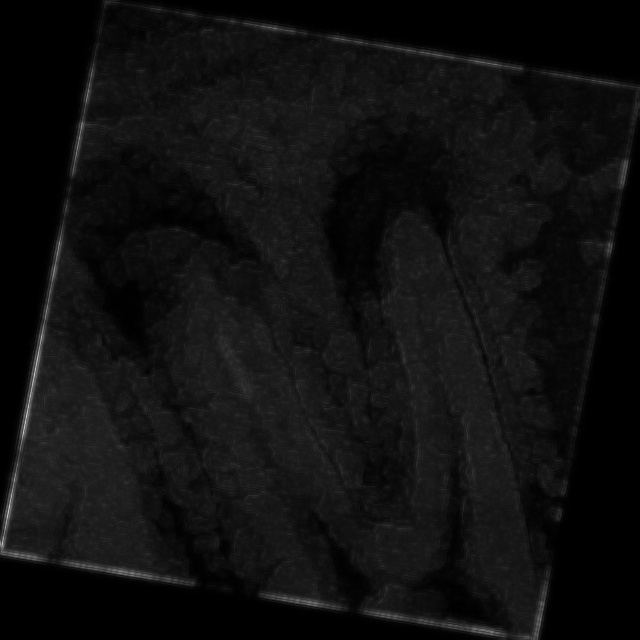Class 2- incomplete endodontic treatment: (16, 68, 628, 640)
